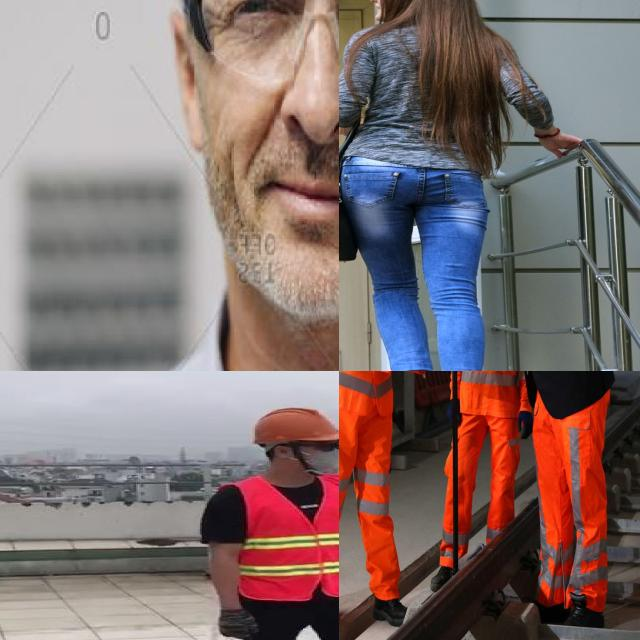face_nomask: (217, 0, 339, 244)
glasses: (183, 0, 339, 70)
hand_glove: (517, 411, 534, 439)
head_helmet: (245, 402, 339, 446)
person: (197, 400, 339, 640)
vest: (226, 477, 339, 601)
